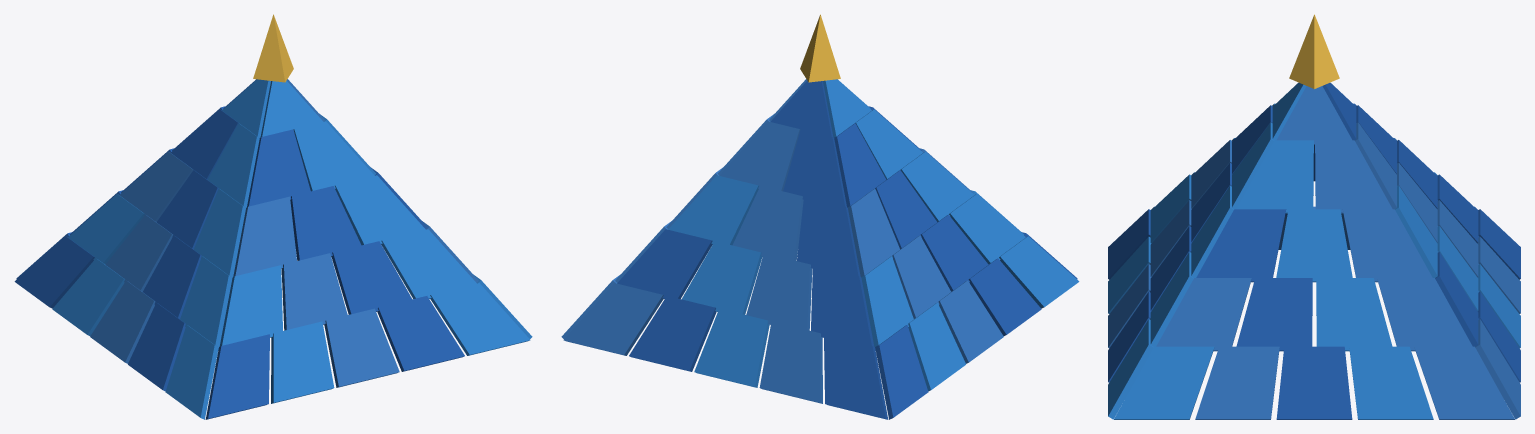
File: capital-v2-roof.glb
The picture shows the model from 3 angles, left to right: view 1: azimuth 30°, elevation 25°; view 2: azimuth 150°, elevation 25°; view 3: azimuth 270°, elevation 25°; orthographic projection. The views are drawn at different scales.
Visible parts, largest first — view 1: module_roof__blue_slate_course.004, module_roof__blue_slate_course.003, module_roof__blue_slate_course.002, module_roof__blue_slate_course, module_roof__blue_slate_course.001, module_roof__blue_slate_course.008, module_roof__blue_slate_course.007, module_roof__blue_slate_course.006, module_roof__blue_slate_course.005, module_roof__blue_slate_course.011, module_roof__blue_slate_course.010, module_roof__blue_slate_course.009 (+19 smaller); view 2: module_roof__blue_slate_course.030, module_roof__blue_slate_course.031, module_roof__blue_slate_course.032, module_roof__blue_slate_course.034, module_roof__blue_slate_course.033, module_roof__blue_slate_course.035, module_roof__blue_slate_course.036, module_roof__blue_slate_course.037, module_roof__blue_slate_course.038, module_roof__blue_slate_course.039, module_roof__blue_slate_course.040, module_roof__blue_slate_course.041 (+19 smaller); view 3: module_roof__blue_slate_course.019, module_roof__blue_slate_course.015, module_roof__blue_slate_course.018, module_roof__blue_slate_course.016, module_roof__blue_slate_course.017, module_roof__blue_slate_course.023, module_roof__blue_slate_course.020, module_roof__blue_slate_course.021, module_roof__blue_slate_course.022, module_roof__blue_slate_course.026, module_roof__blue_slate_course.024, module_roof__blue_slate_course.025 (+34 smaller).
Boxes of the visible parts, x1,y1,x2,y2 form: module_roof__blue_slate_course.004: (430,283,530,355); module_roof__blue_slate_course.003: (377,296,464,371); module_roof__blue_slate_course.002: (324,308,399,387); module_roof__blue_slate_course: (205,334,269,419); module_roof__blue_slate_course.001: (271,321,334,403); module_roof__blue_slate_course.008: (381,229,476,298); module_roof__blue_slate_course.007: (331,241,411,314); module_roof__blue_slate_course.006: (281,253,347,330); module_roof__blue_slate_course.005: (219,265,282,346); module_roof__blue_slate_course.011: (335,175,425,245); module_roof__blue_slate_course.010: (290,186,361,260); module_roof__blue_slate_course.009: (233,196,296,276); module_roof__blue_slate_course.030: (563,283,663,355); module_roof__blue_slate_course.031: (629,296,716,371); module_roof__blue_slate_course.032: (694,308,769,387); module_roof__blue_slate_course.034: (824,334,888,419); module_roof__blue_slate_course.033: (759,321,822,403); module_roof__blue_slate_course.035: (617,229,712,298); module_roof__blue_slate_course.036: (682,241,762,314); module_roof__blue_slate_course.037: (746,253,812,330); module_roof__blue_slate_course.038: (811,265,874,346); module_roof__blue_slate_course.039: (668,175,758,245); module_roof__blue_slate_course.040: (732,186,803,260); module_roof__blue_slate_course.041: (797,196,860,276); module_roof__blue_slate_course.019: (1414,346,1514,419); module_roof__blue_slate_course.015: (1114,346,1214,419); module_roof__blue_slate_course.018: (1349,346,1433,419); module_roof__blue_slate_course.016: (1195,346,1279,419); module_roof__blue_slate_course.017: (1276,346,1352,419); module_roof__blue_slate_course.023: (1377,278,1472,351); module_roof__blue_slate_course.020: (1156,278,1251,351); module_roof__blue_slate_course.021: (1236,278,1312,351); module_roof__blue_slate_course.022: (1316,278,1392,351); module_roof__blue_slate_course.026: (1342,209,1432,282); module_roof__blue_slate_course.024: (1196,209,1286,282); module_roof__blue_slate_course.025: (1276,209,1352,282).
Bounding box in the file's own units: 0.1624 × 0.1394 × 0.1624.
